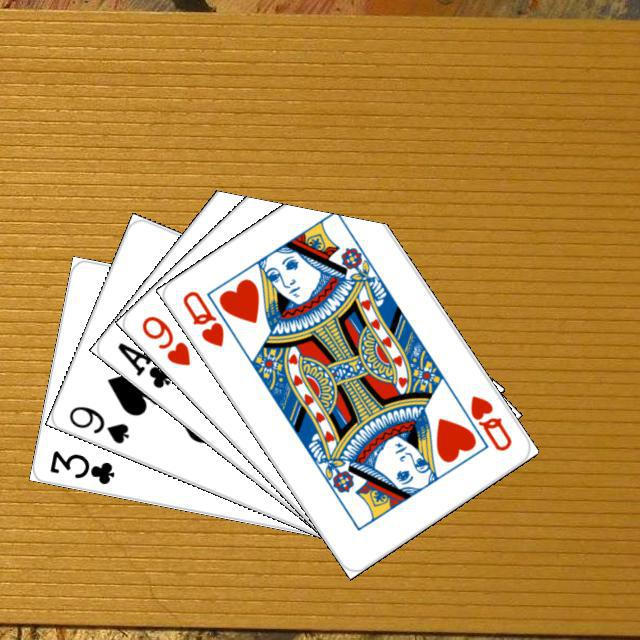3c: (45, 445, 117, 487)
9h: (136, 311, 193, 368)
9s: (64, 401, 131, 446)
Ac: (112, 337, 174, 391)
Qh: (449, 390, 514, 453), (177, 286, 226, 349)
